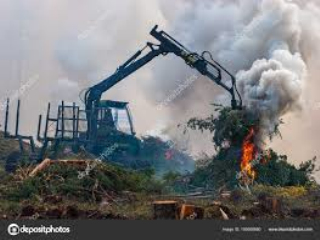fire: (234, 134, 268, 186)
smoke: (200, 5, 314, 138)
